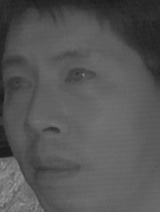eye: (62, 65, 100, 87), (3, 74, 35, 92)
mouth: (23, 154, 81, 184)
